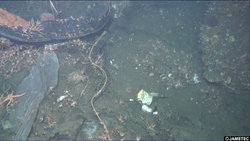rope: (87, 27, 113, 141)
